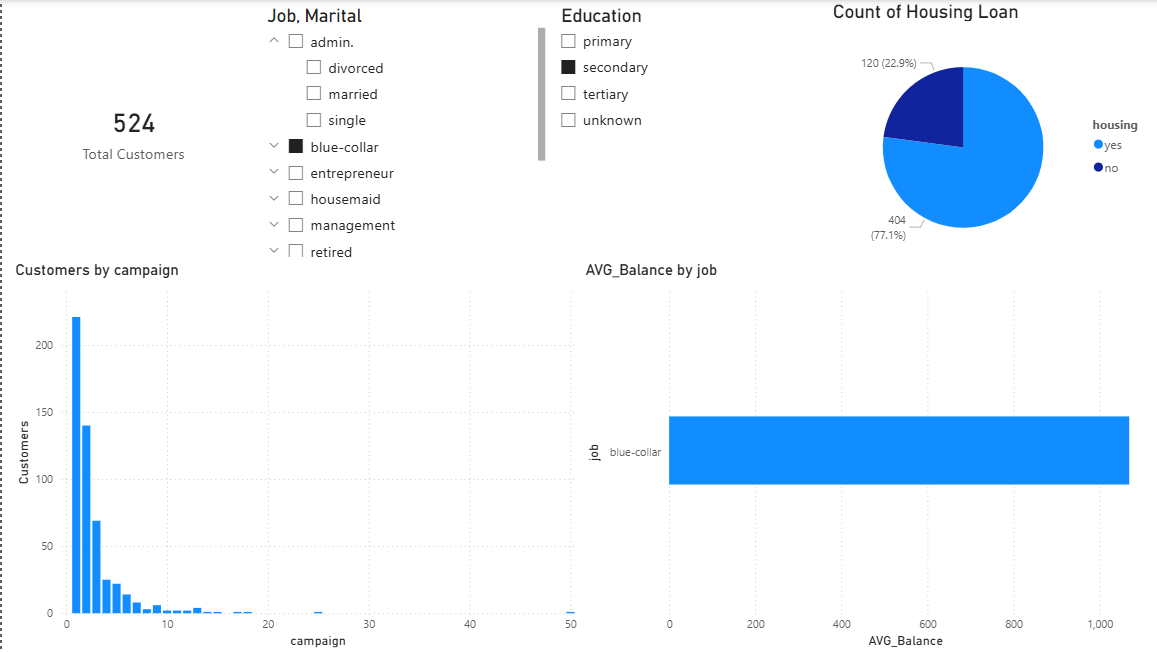

This screenshot's page, from the dashboard's own definition file:
{"tool":"powerbi","page":{"name":"Page 1","canvas":[1280,720],"ordinal":0},"visuals":[{"type":"card","fields":{"Values":["CountNonNull(bank_project bank_marketing.contact)"]},"box":[9.9,0,270,288.2],"z":0},{"type":"barChart","fields":{"Category":["bank_project bank_marketing.job"],"Y":["bank_project bank_marketing.AVG_Balance"]},"box":[640,288.3,640,431.7],"z":1000},{"type":"clusteredColumnChart","fields":{"Category":["bank_project bank_marketing.campaign"],"Y":["bank_project bank_marketing.coustCustomers"]},"box":[10,288.3,630,431.7],"z":2000},{"type":"pieChart","title":"Count of Housing Loan","fields":{"Category":["bank_project bank_marketing.housing"],"Y":["CountNonNull(bank_project bank_marketing.age)"]},"box":[913.3,0,366.7,301.7],"z":3000},{"type":"slicer","fields":{"Values":["bank_project bank_marketing.job","bank_project bank_marketing.marital"]},"box":[279.9,0,324.7,288.2],"z":3001},{"type":"slicer","fields":{"Values":["bank_project bank_marketing.education"]},"box":[604.6,0,308.1,288.2],"z":3002}]}

Visuals, with their boxes in screenshot pixels (x1, y1, x2, y2), scaled from the page's 1280x720 canvas onto the 1157x652 screenshot:
card - CountNonNull(bank_project bank_marketing.contact): <bbox>9, 0, 253, 261</bbox>
barChart - bank_project bank_marketing.job x bank_project bank_marketing.AVG_Balance: <bbox>578, 261, 1156, 651</bbox>
clusteredColumnChart - bank_project bank_marketing.campaign x bank_project bank_marketing.coustCustomers: <bbox>9, 261, 578, 651</bbox>
"Count of Housing Loan" pieChart: <bbox>826, 0, 1156, 273</bbox>
slicer - bank_project bank_marketing.job x bank_project bank_marketing.marital: <bbox>253, 0, 547, 261</bbox>
slicer - bank_project bank_marketing.education: <bbox>547, 0, 825, 261</bbox>
